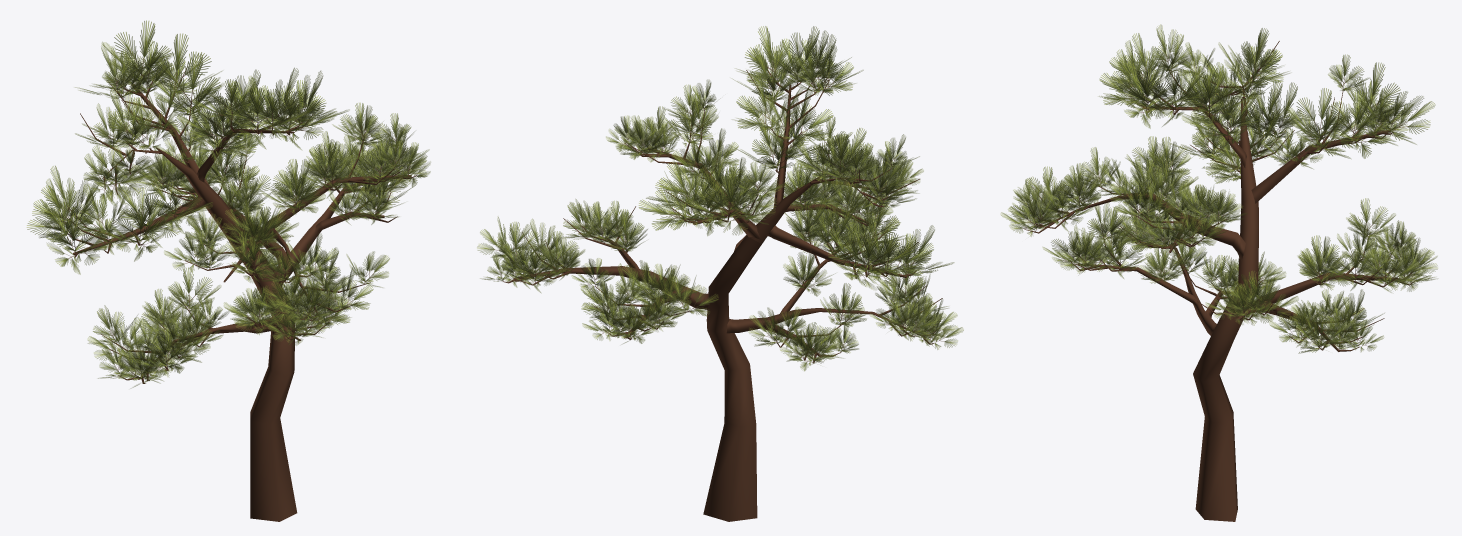
File: Pine_Tree_2.glb
3 renders of one model, left to right at view 1: azimuth 30°, elevation 25°; view 2: azimuth 150°, elevation 25°; view 3: azimuth 270°, elevation 25°, orthographic. The views are drawn at different scales.
Parts seen in each view (by area): view 1: Pine_Tree_2; view 2: Pine_Tree_2; view 3: Pine_Tree_2.
Part boxes in pixels (x1,y1,x2,y2): Pine_Tree_2: (27, 20, 430, 521); Pine_Tree_2: (477, 26, 963, 521); Pine_Tree_2: (1000, 24, 1437, 521).
Size of the model in its own units: 6.66 by 6.82 by 6.14.
Materials: 2 (2 with a texture image).
